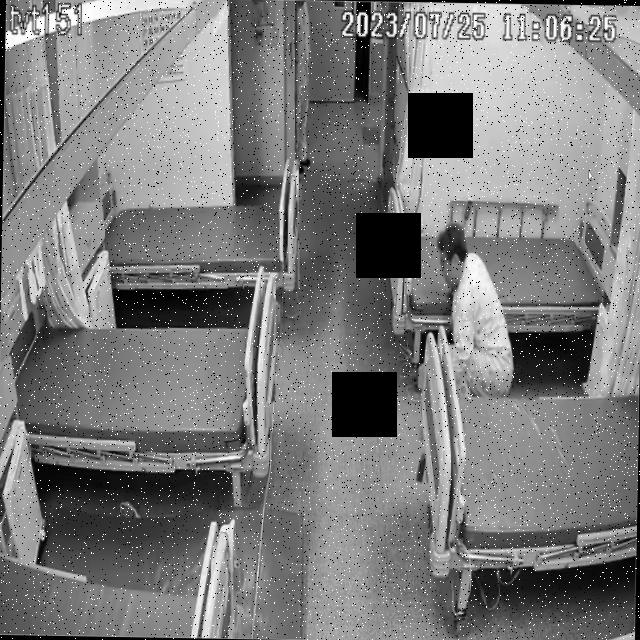bed: (416, 326, 640, 574), (11, 312, 278, 470), (382, 214, 618, 337), (106, 189, 296, 290)
fall: (423, 232, 534, 408)
patient: (427, 236, 532, 410)
